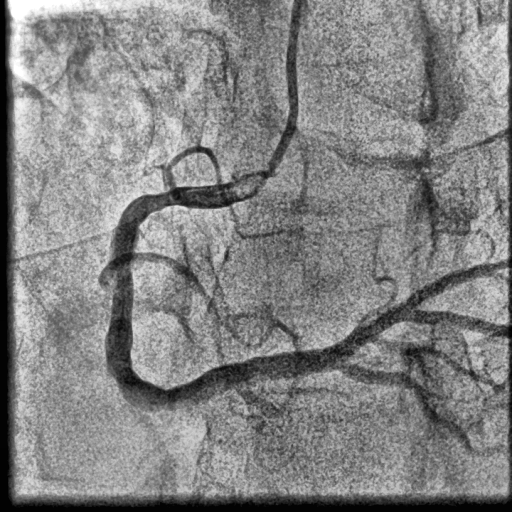pborca: (333, 263, 504, 357)
pda: (340, 357, 511, 459)
rca: (106, 171, 345, 413)
